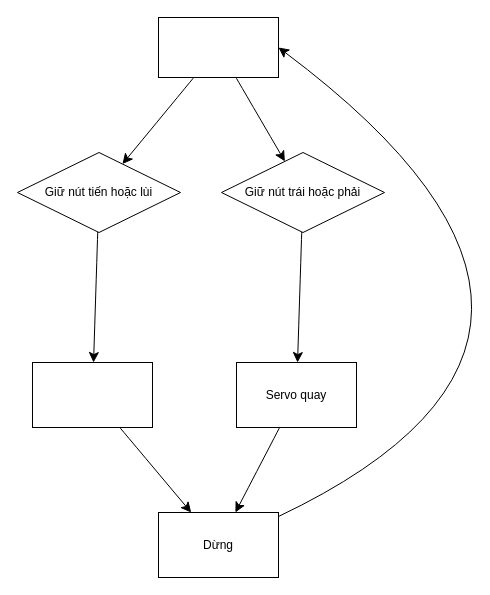
Some shapes in this 490 by 595 pixel diagram are drawn without their labels. The centre of each missing label's shape, as x and y in pixels:
Nhận tín hiệu: the point at 218,47
Động cơ DC quay: the point at 92,395
